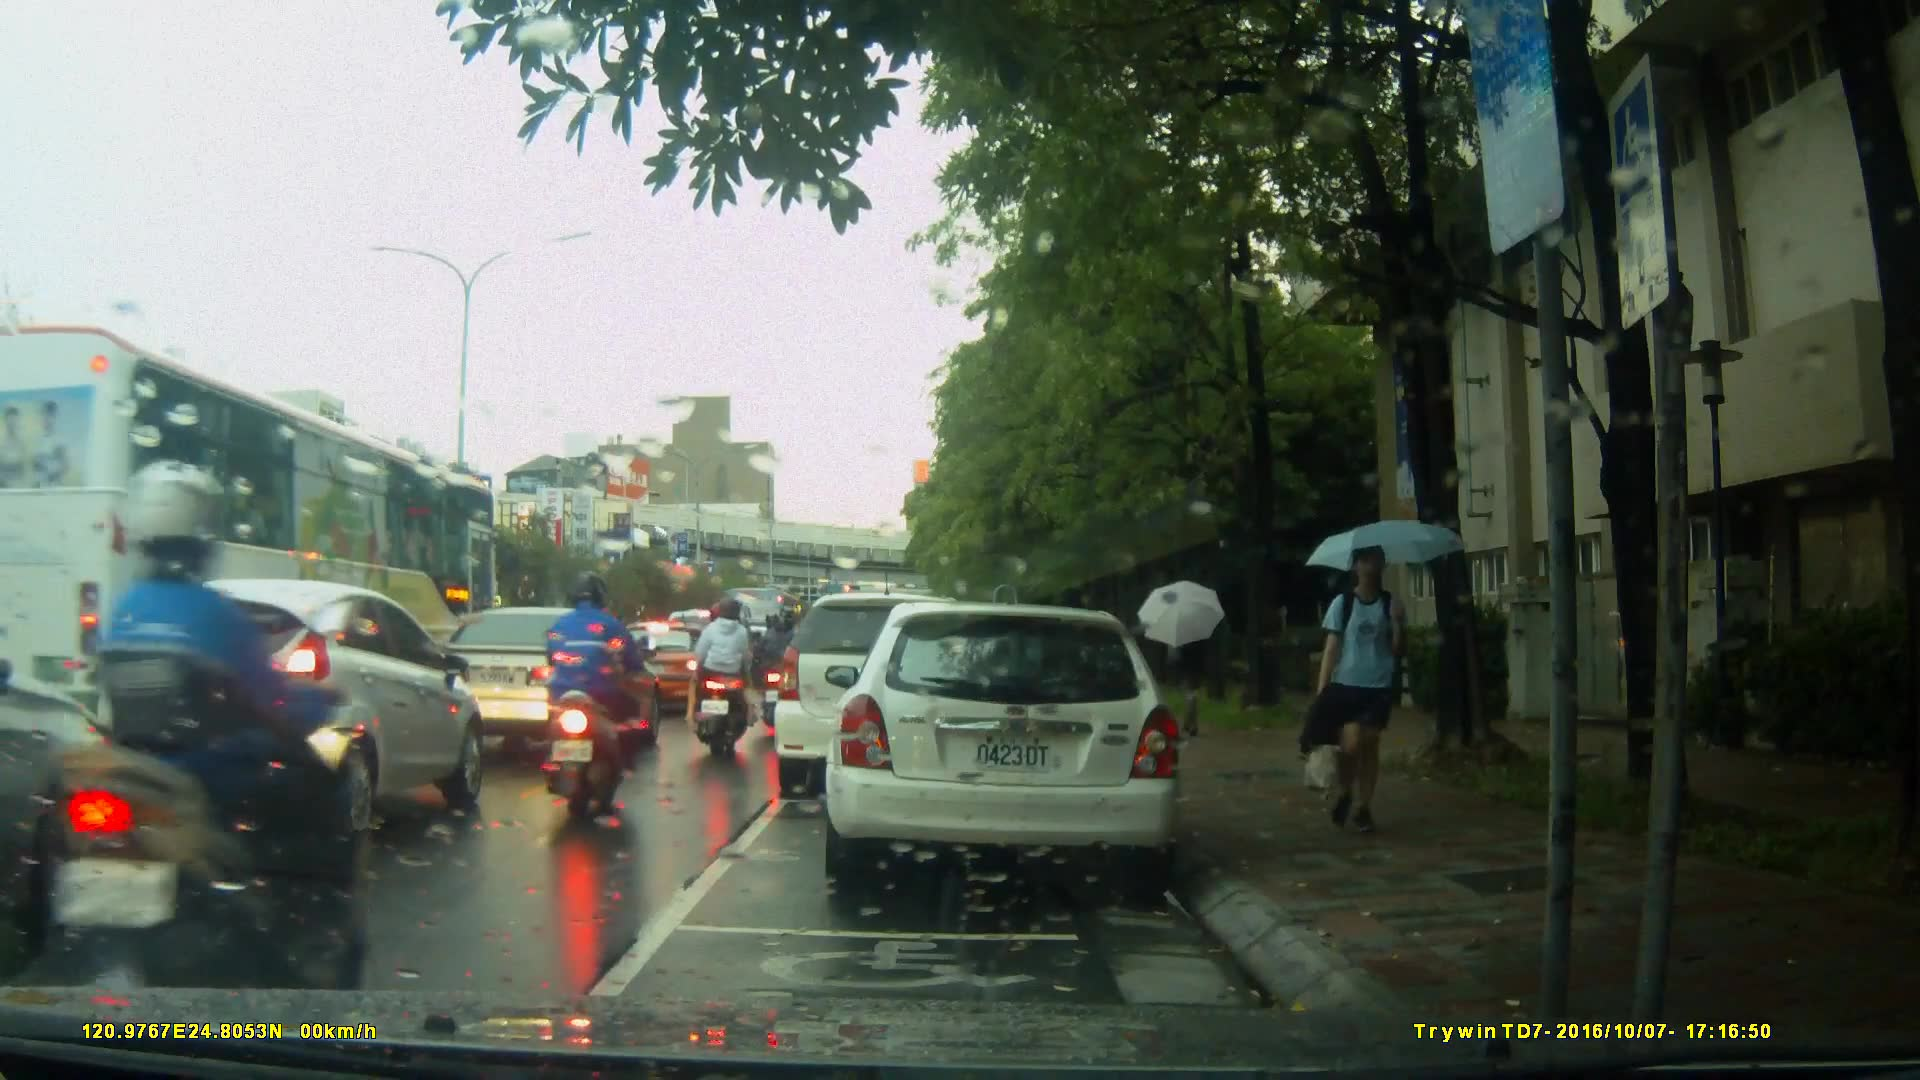pedestrian: (1303, 547, 1434, 832), (1164, 609, 1218, 738)
rider: (39, 450, 355, 1049), (551, 572, 644, 812), (696, 594, 767, 769), (759, 606, 797, 733)
vehicle: (3, 311, 508, 790), (835, 594, 1194, 898), (86, 576, 485, 846), (776, 590, 1026, 784), (407, 604, 656, 757), (608, 619, 729, 716)
